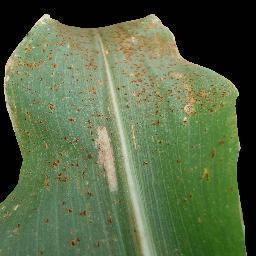Corn_Common_Rust: (2, 9, 243, 122), (0, 122, 119, 256), (129, 122, 174, 154), (127, 204, 142, 256), (178, 188, 196, 205), (199, 164, 210, 186), (139, 155, 154, 170), (208, 146, 223, 161), (216, 134, 233, 145), (173, 157, 188, 167), (189, 141, 203, 151)
